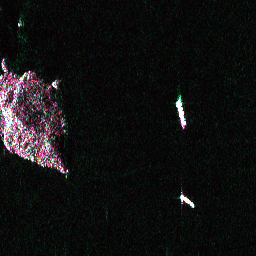ship: (173, 97, 190, 129), (177, 191, 197, 210)
